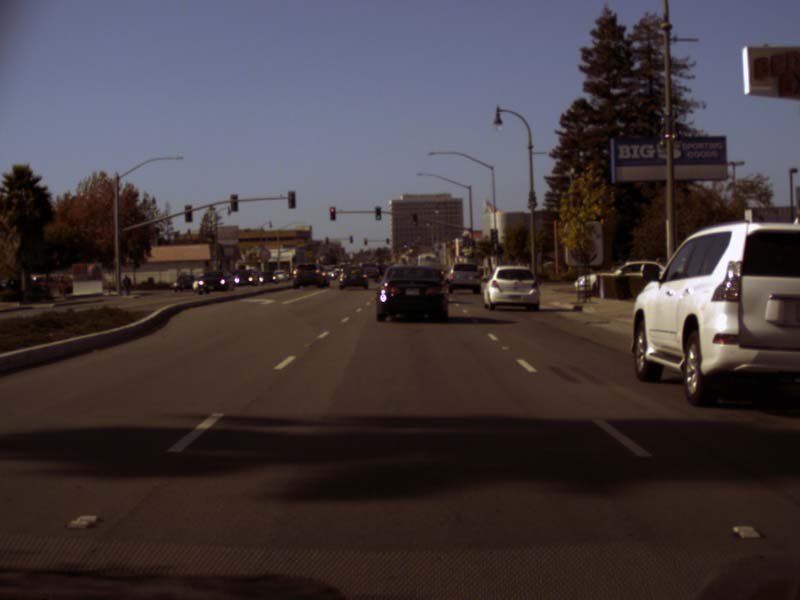Green: (374, 206, 380, 219), (412, 213, 417, 225)
Red: (328, 206, 335, 220)
